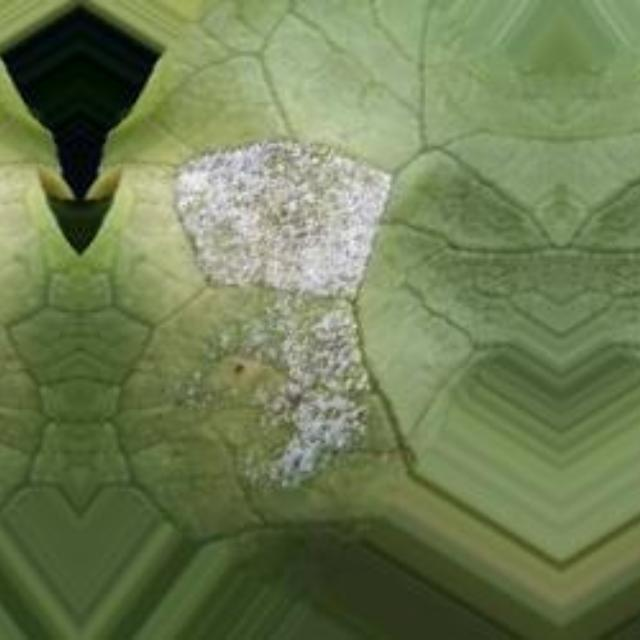Downy_mildew: (150, 110, 384, 292), (168, 308, 384, 484), (0, 110, 7, 292)
